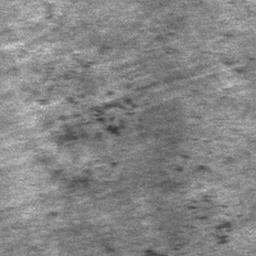Rolled in scale: (13, 50, 157, 146), (177, 183, 233, 245), (175, 151, 226, 173), (147, 231, 183, 256), (149, 32, 177, 56), (55, 169, 90, 185), (46, 15, 64, 32), (225, 61, 242, 74)
